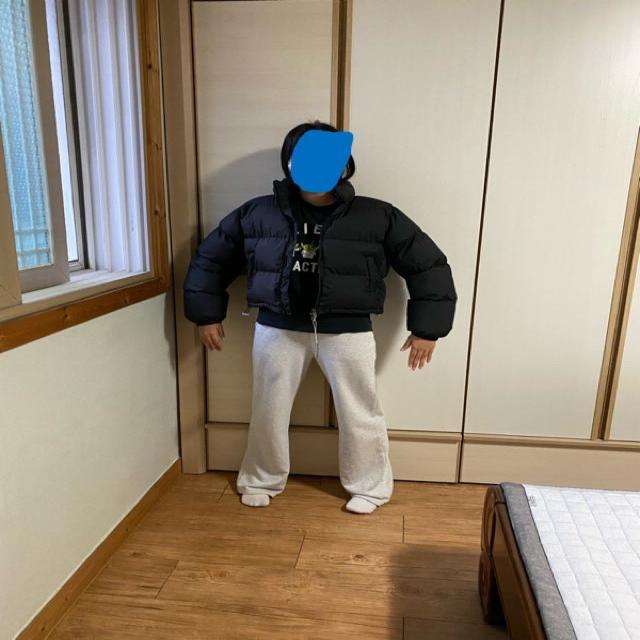padding: (180, 179, 458, 340)
trainingpants: (236, 313, 395, 508)
